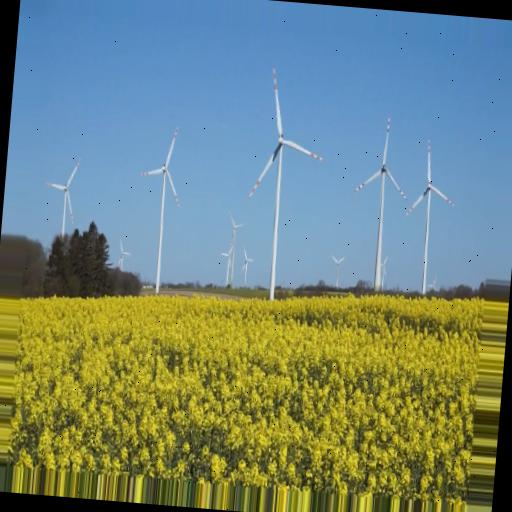wind turbine: (246, 65, 324, 296), (350, 116, 405, 291), (404, 137, 457, 291), (138, 127, 179, 293), (43, 157, 83, 241)
